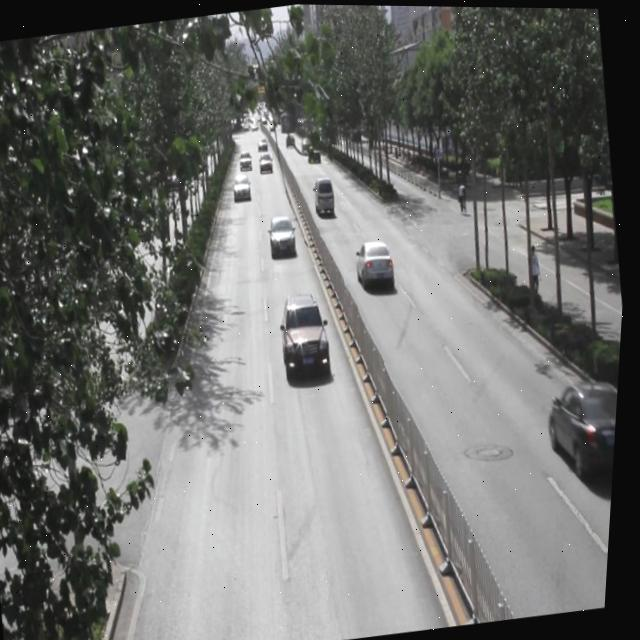car: (544, 373, 623, 488), (278, 290, 338, 378), (355, 238, 400, 295), (267, 214, 301, 262), (232, 173, 256, 205), (239, 149, 257, 174), (306, 142, 324, 165), (259, 151, 276, 175), (285, 132, 299, 150), (258, 136, 272, 154), (301, 136, 314, 154)
truck: (312, 175, 340, 217)
